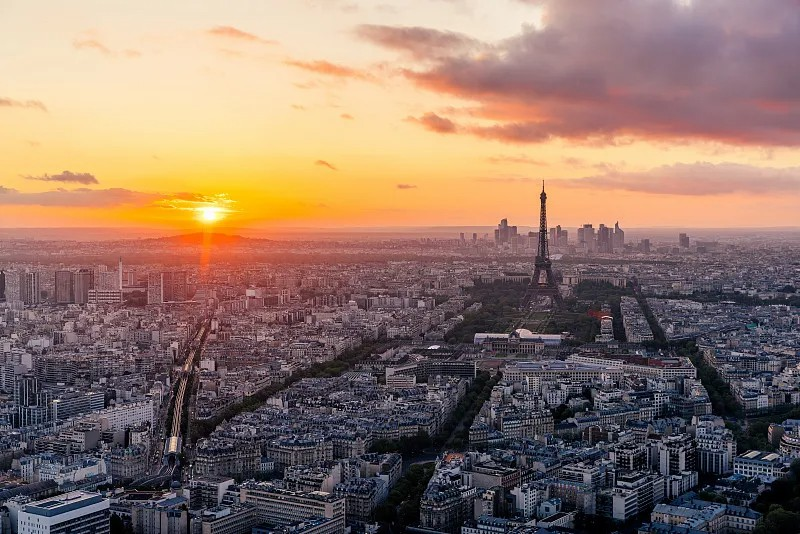Eiffel: (520, 179, 564, 311)
